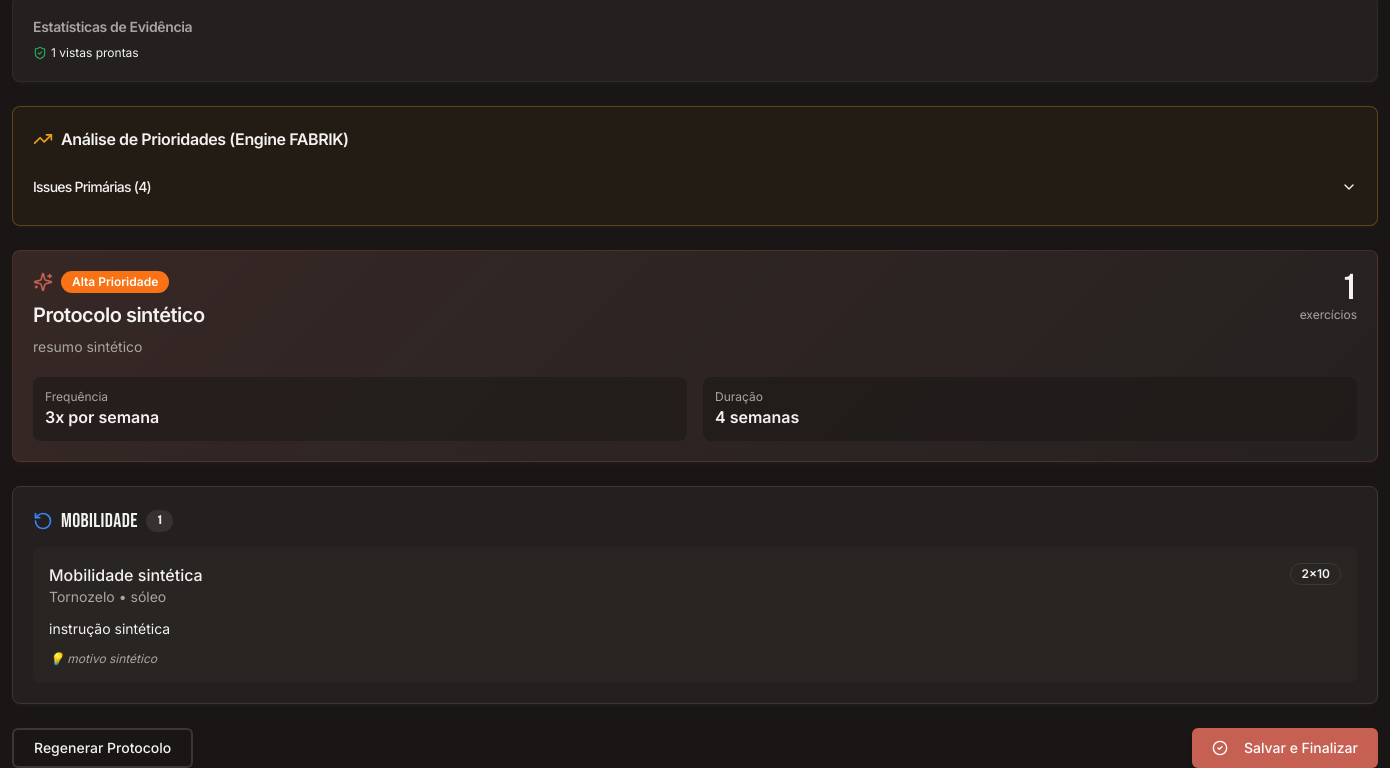
Etapa 5a: red flags › a gravação recusada pela porta volta ao cartão, sem concluir e sem o aviso de erro
Click the button "Salvar e Finalizar". click: (1285, 748)
box: [1192, 728, 1378, 767]
(page scrolled)
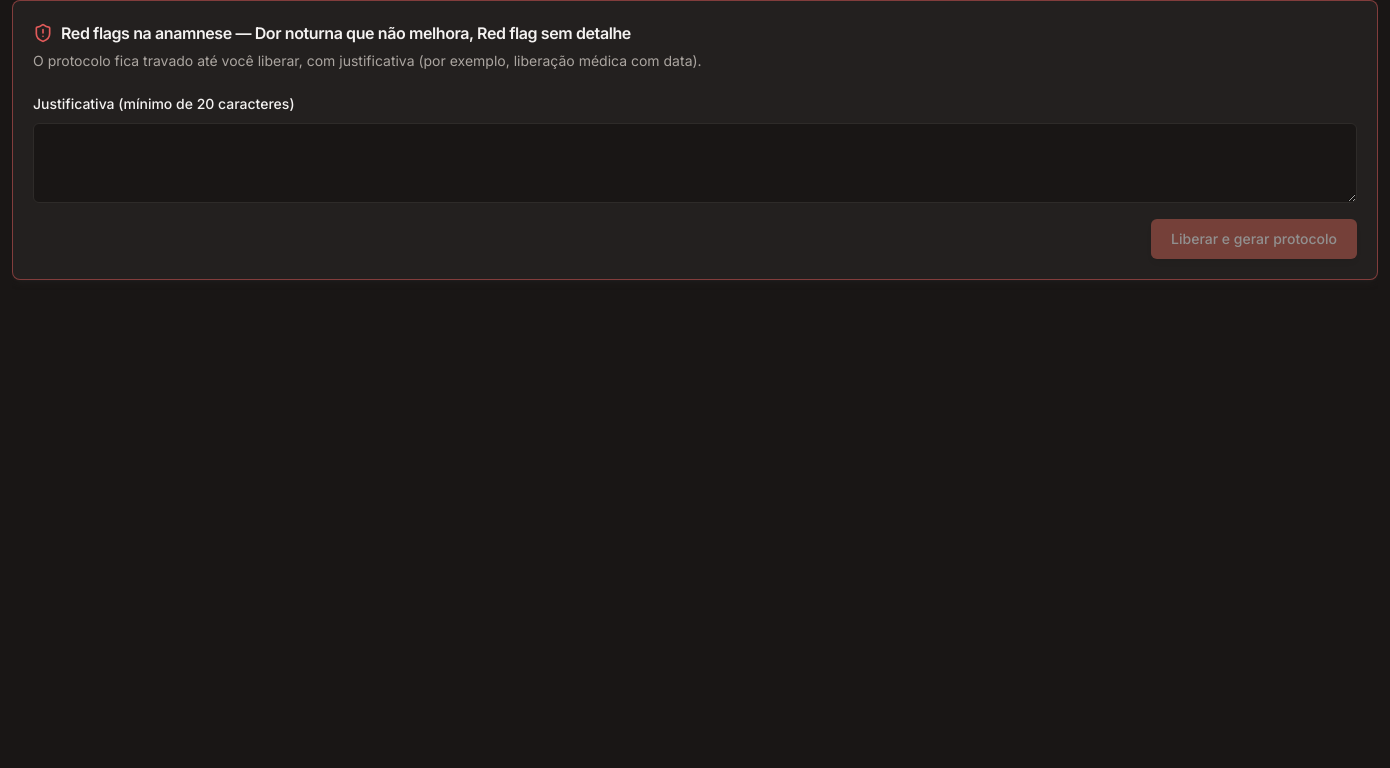
Result: the button "Liberar e gerar protocolo" is shown at [1151, 219, 1357, 259]
